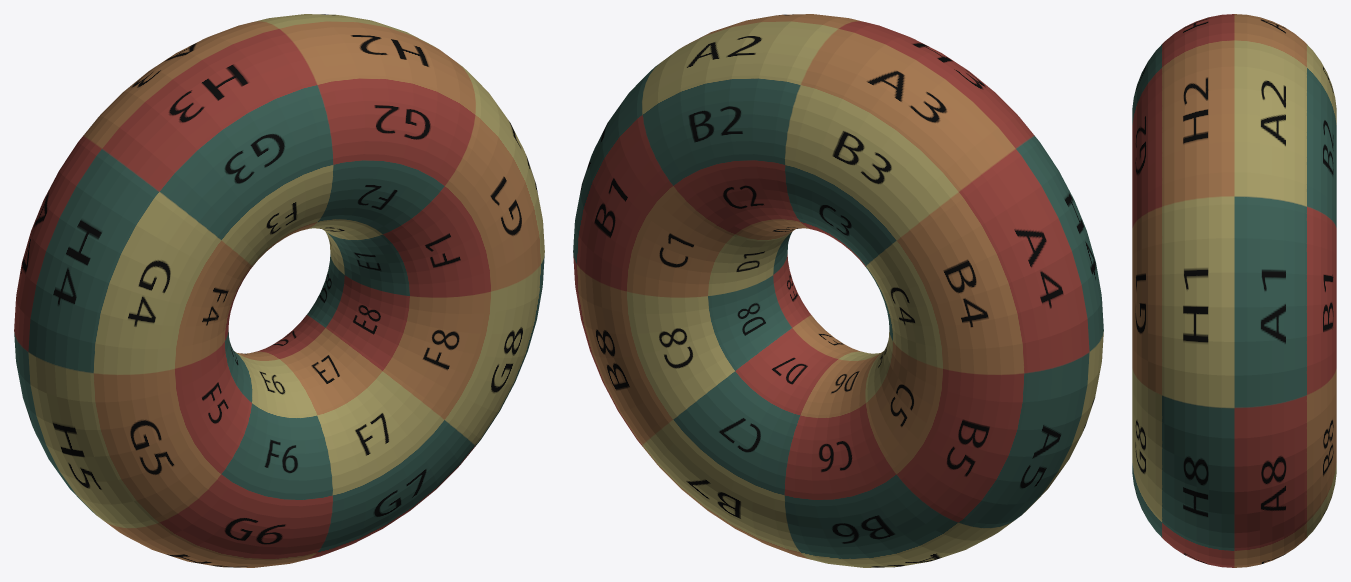
File: texture_torus_R1_r16.glb
3 views of the same model, side by side, from view 1: azimuth 30°, elevation 25°; view 2: azimuth 150°, elevation 25°; view 3: azimuth 270°, elevation 25° (orthographic). The views are drawn at different scales.
Parts seen in each view (by area): view 1: world; view 2: world; view 3: world.
Boxes of the visible parts, x1,y1,x2,y2 form: world: (14,14,544,567); world: (573,14,1103,567); world: (1132,14,1336,567).
Bounding box in the file's own units: 16.93 × 16.9 × 6.25.
1 material, 1 textured.
